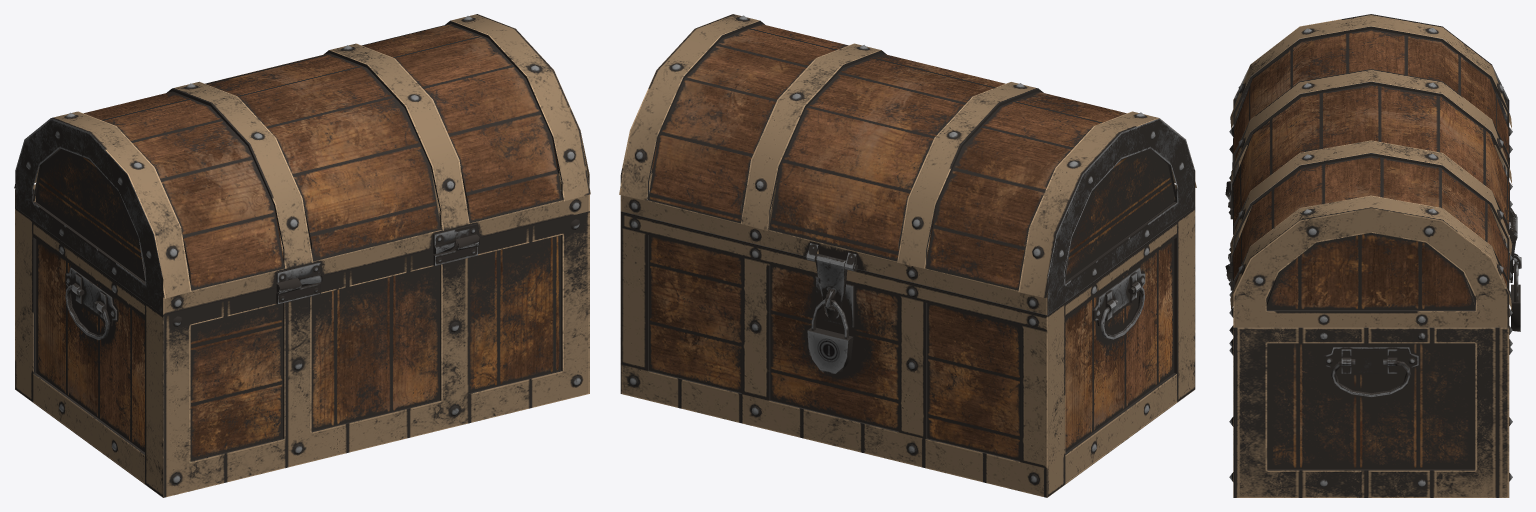
Rendered from chest_closed_lod1.glb.
The picture shows the model from 3 angles, left to right: view 1: azimuth 30°, elevation 25°; view 2: azimuth 150°, elevation 25°; view 3: azimuth 270°, elevation 25°; orthographic projection. The views are drawn at different scales.
Parts seen in each view (by area): view 1: chest_closed_lod1; view 2: chest_closed_lod1; view 3: chest_closed_lod1.
Boxes of the visible parts, <box> form: chest_closed_lod1: <box>14,14,590,497</box>; chest_closed_lod1: <box>619,14,1196,497</box>; chest_closed_lod1: <box>1225,14,1521,497</box>.
Size of the model in its own units: 0.4388 by 0.3 by 0.2776.
1 material, 1 textured.
